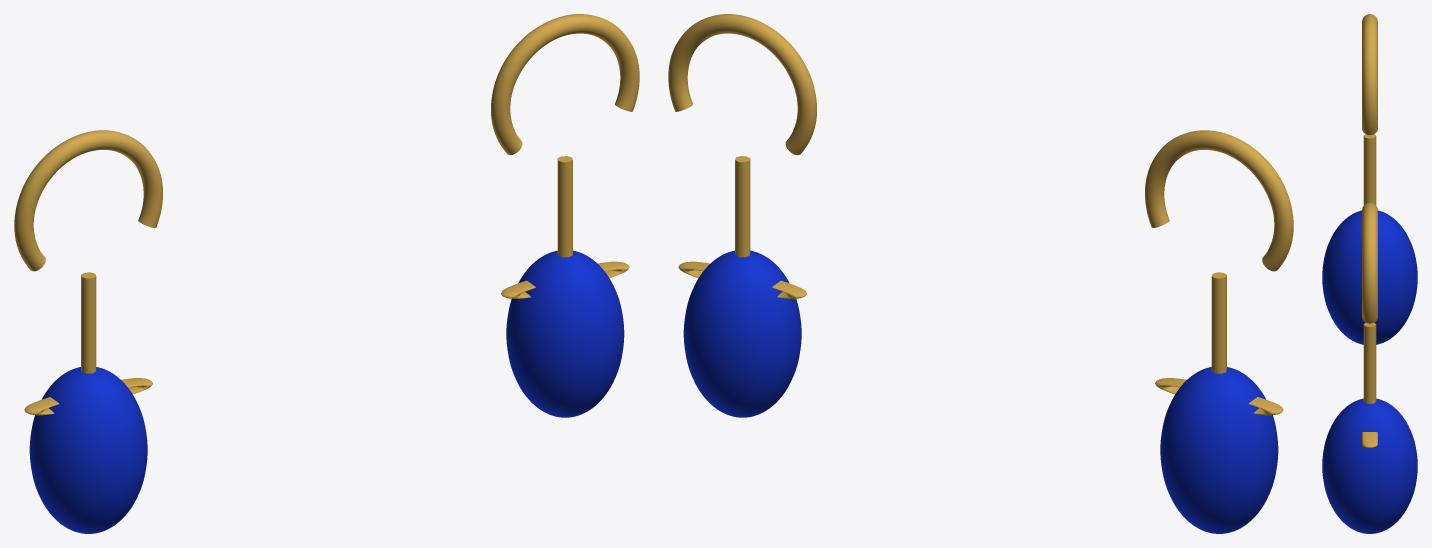
The model's file is earrings.glb.
3 views of the same model, side by side, from view 1: azimuth 30°, elevation 25°; view 2: azimuth 150°, elevation 25°; view 3: azimuth 270°, elevation 25° (orthographic). The views are drawn at different scales.
Visible parts, largest first — view 1: gem (×2), metal (×6); view 2: gem (×2), metal (×6); view 3: gem (×2), metal (×5).
Boxes of the visible parts, <box> form: gem (×2): <box>29,250,624,533</box>; metal (×6): <box>14,14,639,415</box>; gem (×2): <box>683,250,1278,533</box>; metal (×6): <box>668,14,1293,415</box>; gem (×2): <box>1322,210,1417,533</box>; metal (×5): <box>1362,14,1377,447</box>.
Bounding box in the file's own units: 3.66 × 2.23 × 0.6.
